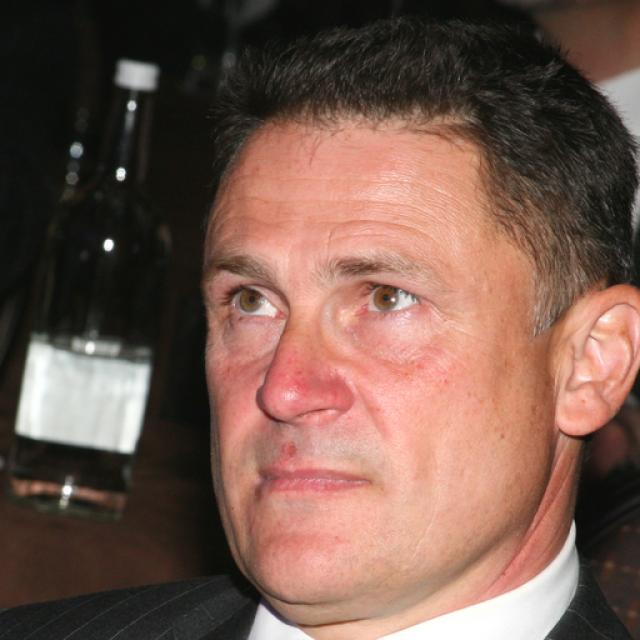Wrinkle: (210, 192, 447, 235), (227, 172, 470, 210), (212, 212, 437, 246)
